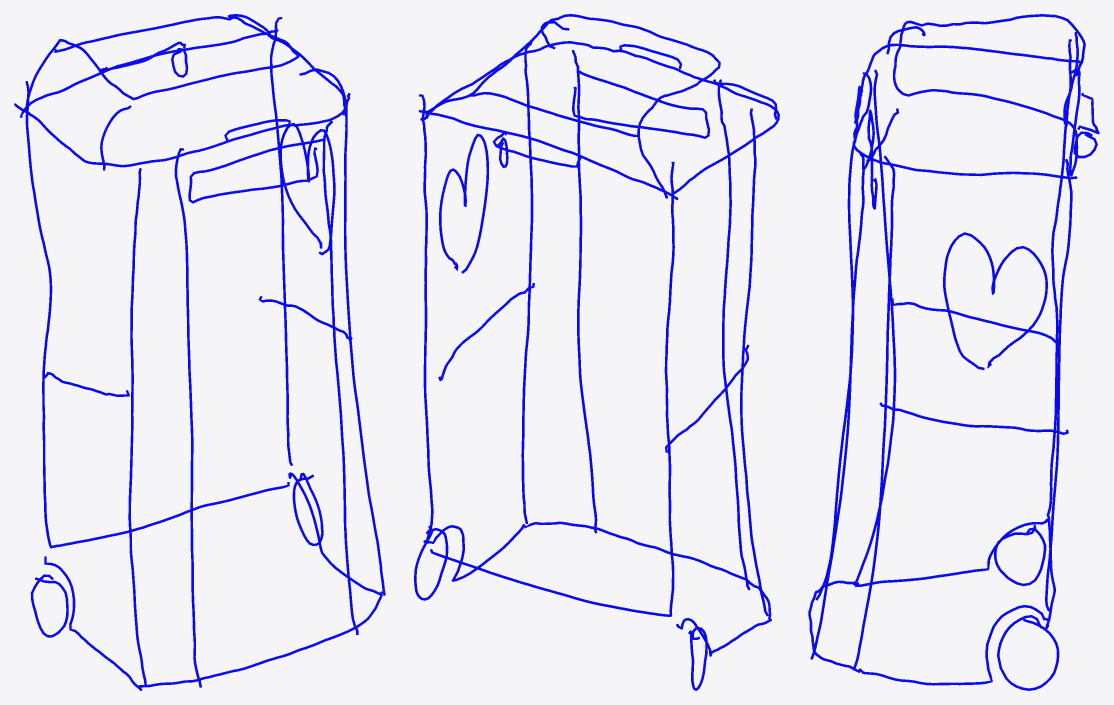
The model's file is scaffold_sketch_P3_trash.glb.
The picture shows the model from 3 angles, left to right: view 1: azimuth 30°, elevation 25°; view 2: azimuth 150°, elevation 25°; view 3: azimuth 270°, elevation 25°; orthographic projection.
Parts seen in each view (by area): view 1: scaffold_sketch_P3_trash; view 2: scaffold_sketch_P3_trash; view 3: scaffold_sketch_P3_trash.
Boxes of the visible parts, left/top/right/bottom form: scaffold_sketch_P3_trash: left=14, top=14, right=385, bottom=690; scaffold_sketch_P3_trash: left=414, top=14, right=779, bottom=690; scaffold_sketch_P3_trash: left=808, top=14, right=1099, bottom=690.
Size of the model in its own units: 0.517 by 1 by 0.4474.
